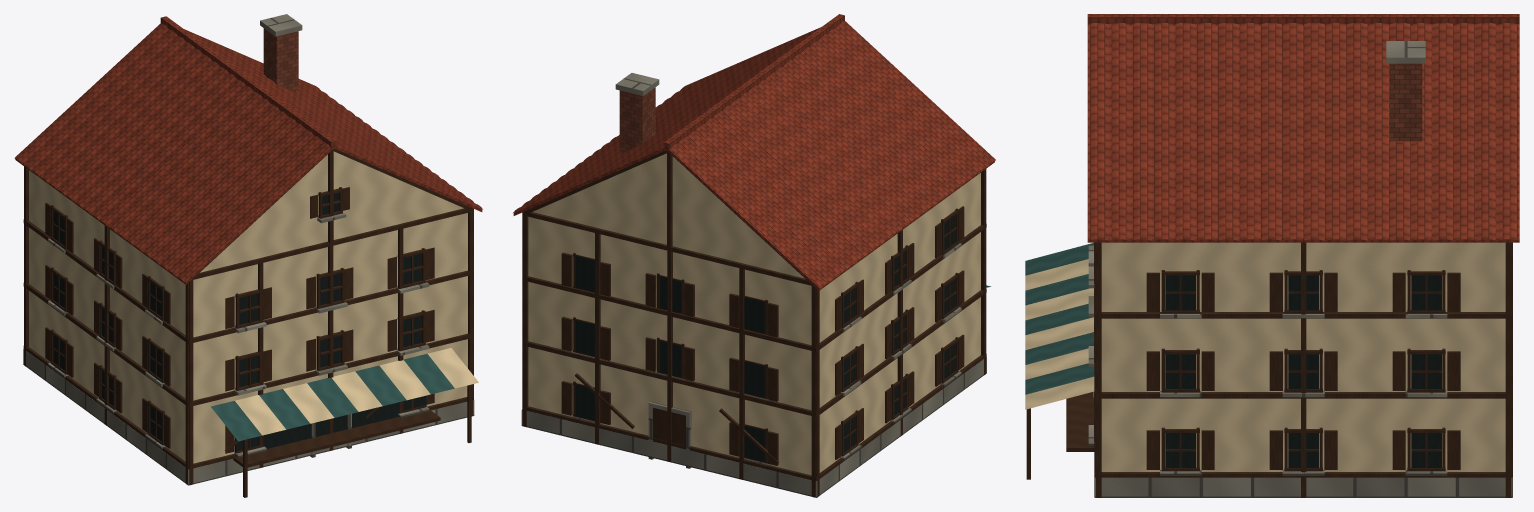
The model's file is SG_House_C_Shop_LOD0.fbx.
The picture shows the model from 3 angles, left to right: view 1: azimuth 30°, elevation 25°; view 2: azimuth 150°, elevation 25°; view 3: azimuth 270°, elevation 25°; orthographic projection. The views are drawn at different scales.
Visible parts, largest first — view 1: SG_House_C_Shop_Detail0; view 2: SG_House_C_Shop_Detail0; view 3: SG_House_C_Shop_Detail0.
Boxes of the visible parts, x1,y1,x2,y2 form: SG_House_C_Shop_Detail0: (14,14,482,497); SG_House_C_Shop_Detail0: (513,14,995,497); SG_House_C_Shop_Detail0: (1025,14,1519,497).
Size of the model in its own units: 25.63 by 26.35 by 28.95.
